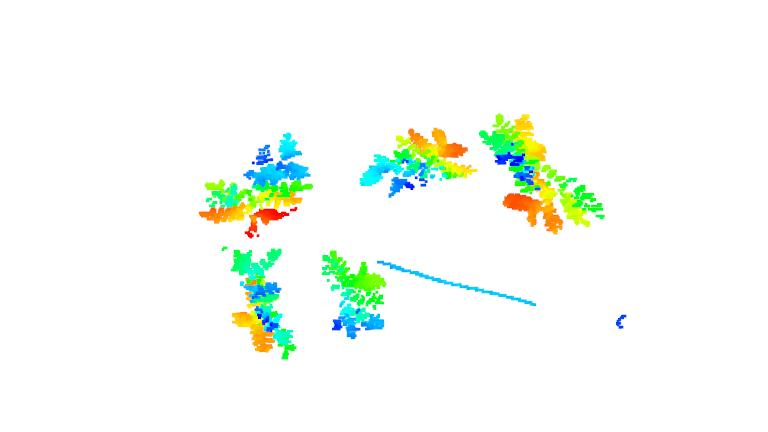chickpea: (192, 133, 309, 236), (363, 121, 472, 195), (500, 165, 608, 239), (323, 252, 386, 343), (223, 245, 305, 307), (480, 112, 547, 179), (233, 310, 304, 360)
